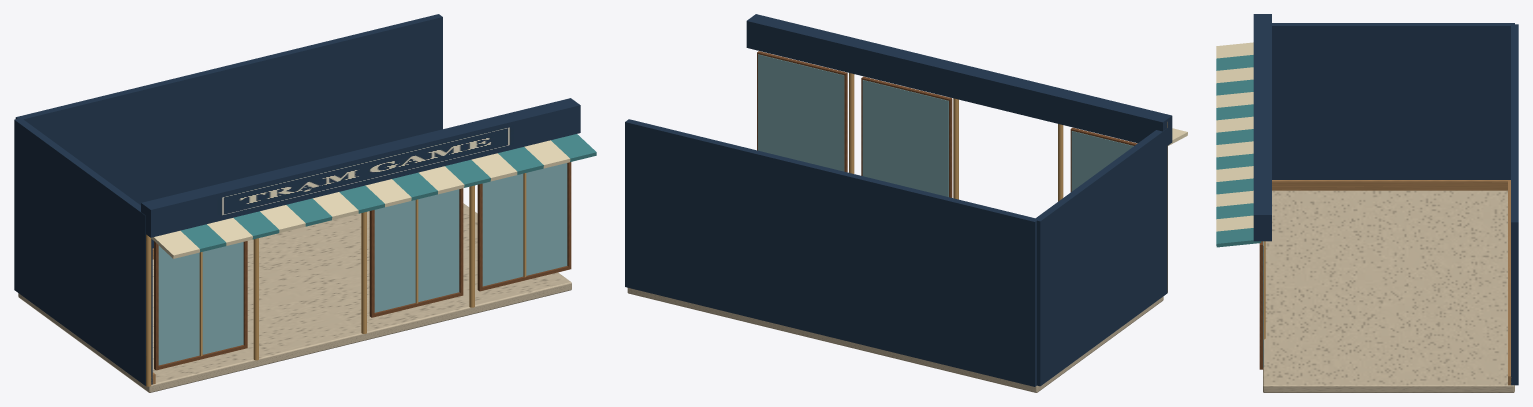
Rendered from cafe-front-fac990a64b90.glb.
3 views of the same model, side by side, from view 1: azimuth 30°, elevation 25°; view 2: azimuth 150°, elevation 25°; view 3: azimuth 270°, elevation 25° (orthographic). The views are drawn at different scales.
Visible parts, largest first — view 1: surface_navy, surface_glass, surface_terrazzo, surface_sign_TRẠM GAMEnavy#f8edcf, surface_ivory, surface_lagoon, surface_walnut, surface_brass; view 2: surface_navy, surface_glass, surface_terrazzo, surface_walnut, surface_brass; view 3: surface_terrazzo, surface_navy, surface_lagoon, surface_ivory, surface_oak, surface_walnut.
Boxes of the visible parts, x1,y1,x2,y2 form: surface_navy: [14, 14, 580, 385]; surface_glass: [158, 163, 567, 365]; surface_terrazzo: [18, 203, 571, 392]; surface_sign_TRẠM GAMEnavy#f8edcf: [217, 125, 513, 217]; surface_ivory: [151, 140, 570, 258]; surface_lagoon: [181, 134, 596, 252]; surface_walnut: [154, 162, 571, 370]; surface_brass: [146, 173, 526, 386]; surface_navy: [625, 14, 1172, 386]; surface_glass: [758, 54, 1133, 196]; surface_terrazzo: [627, 288, 1163, 392]; surface_walnut: [757, 51, 1137, 197]; surface_brass: [849, 73, 1167, 292]; surface_terrazzo: [1263, 190, 1514, 392]; surface_navy: [1253, 14, 1518, 385]; surface_lagoon: [1216, 55, 1261, 247]; surface_ivory: [1216, 42, 1253, 231]; surface_oak: [1272, 180, 1511, 385]; surface_walnut: [1259, 241, 1263, 369].
Size of the model in its own units: 7.92 by 3.31 by 5.04.
Materials: 9 (4 with a texture image).
